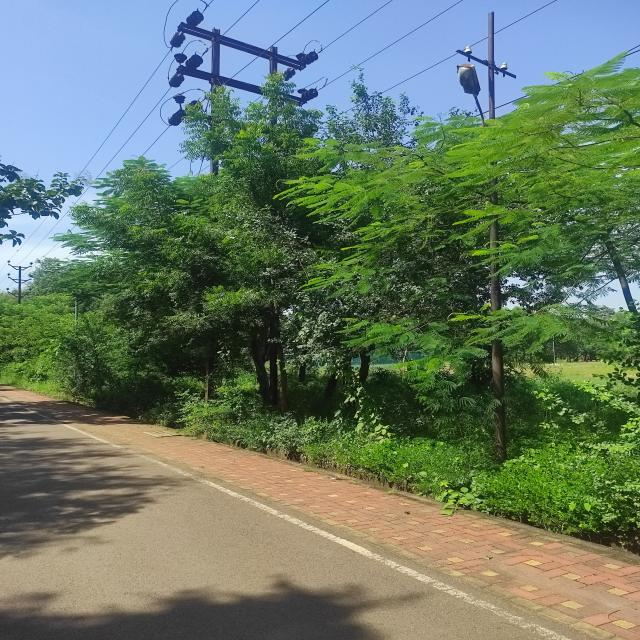Neem Tree: (118, 191, 261, 351)
